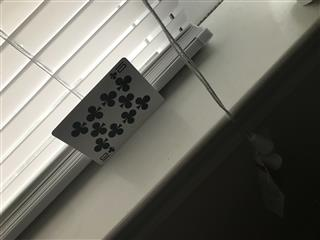TenOfClubs: (50, 56, 165, 165)
